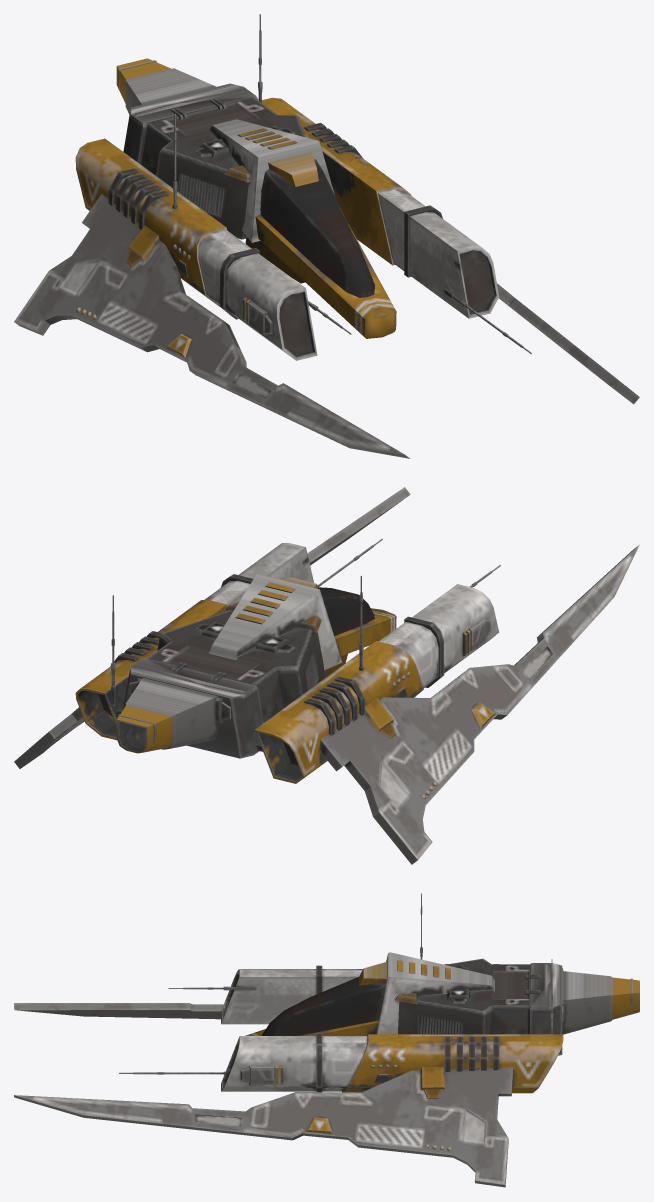
Rendered from assets__resources__models-low__ships__interceptor.glb.
The picture shows the model from 3 angles, top to bottom: view 1: azimuth 30°, elevation 25°; view 2: azimuth 150°, elevation 25°; view 3: azimuth 270°, elevation 25°; orthographic projection. The views are drawn at different scales.
Parts seen in each view (by area): view 1: Striker; view 2: Striker; view 3: Striker.
Boxes of the visible parts, <box> form: Striker: <box>14,14,639,458</box>; Striker: <box>14,487,639,864</box>; Striker: <box>14,893,639,1187</box>.
Bounding box in the file's own units: 5.03 × 2.68 × 8.43.
Materials: 1 (1 with a texture image).
